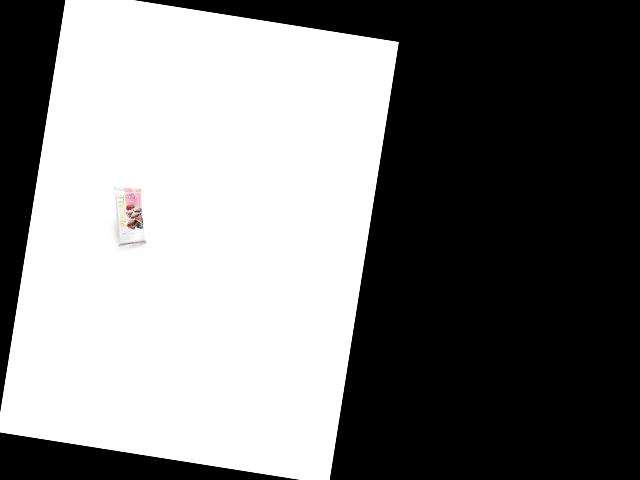chocolate: (105, 185, 156, 249)
